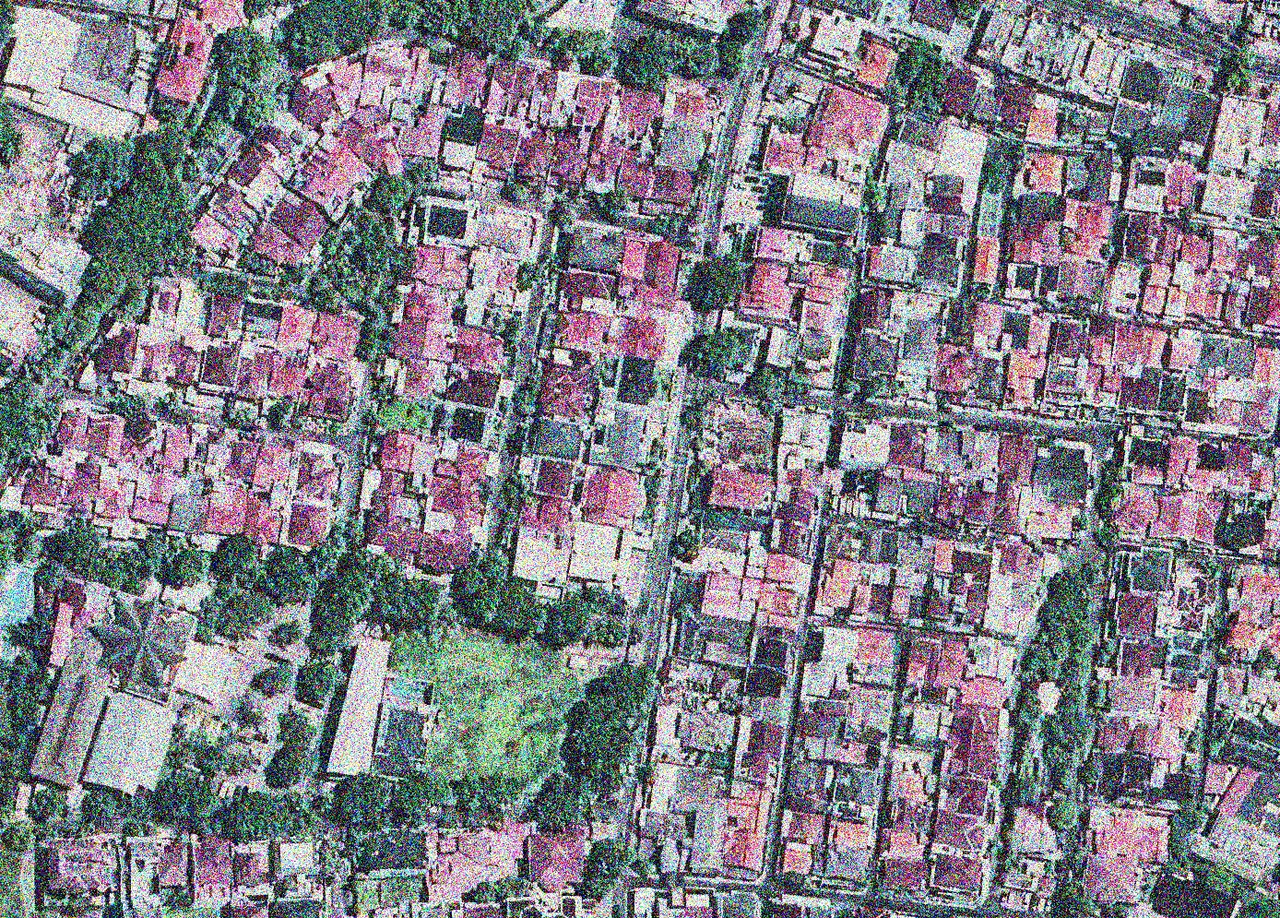building: (541, 225, 699, 371), (966, 0, 1137, 112), (339, 465, 476, 601), (73, 578, 202, 707), (26, 628, 123, 791), (198, 119, 314, 245), (649, 641, 748, 769), (875, 110, 988, 221), (0, 191, 101, 308), (80, 688, 179, 803), (412, 443, 493, 580), (325, 634, 392, 781), (244, 185, 340, 282), (793, 682, 893, 769), (367, 673, 443, 784), (16, 77, 140, 145), (60, 10, 146, 108), (802, 80, 893, 169), (1187, 804, 1280, 890), (0, 3, 82, 100), (288, 131, 374, 221), (423, 825, 523, 901), (507, 487, 581, 589), (801, 625, 896, 703), (869, 0, 981, 65), (793, 258, 853, 374), (151, 13, 221, 109), (923, 121, 994, 215), (44, 575, 111, 674), (646, 760, 731, 838), (778, 168, 867, 242), (792, 0, 876, 75), (332, 100, 408, 178), (764, 464, 825, 560), (201, 481, 287, 549), (689, 507, 766, 582), (1150, 80, 1223, 157), (671, 606, 756, 672), (981, 546, 1041, 638), (703, 399, 776, 472), (1213, 753, 1280, 832), (534, 343, 598, 423), (460, 255, 523, 335), (1206, 92, 1269, 172), (139, 272, 207, 345), (0, 270, 50, 369), (1088, 808, 1173, 866), (719, 783, 772, 875), (822, 516, 915, 567), (566, 520, 635, 588), (1031, 440, 1093, 513), (170, 638, 236, 706), (1210, 661, 1280, 725), (553, 217, 626, 278), (946, 702, 1002, 781), (1193, 164, 1261, 229), (524, 827, 590, 893), (579, 464, 646, 529), (1147, 871, 1239, 918), (358, 42, 416, 112), (1148, 488, 1220, 544), (730, 716, 787, 786), (630, 0, 732, 39), (509, 526, 574, 587), (737, 257, 799, 320), (775, 405, 832, 473), (742, 633, 798, 702), (435, 101, 487, 175), (406, 196, 479, 248), (617, 236, 682, 294), (354, 829, 429, 879), (394, 98, 449, 166), (705, 464, 774, 518), (203, 181, 266, 240), (905, 638, 966, 698), (1216, 714, 1280, 771), (1122, 148, 1175, 216), (1115, 54, 1176, 111), (608, 308, 671, 363), (697, 569, 761, 623), (655, 111, 709, 175), (687, 796, 730, 876), (912, 232, 967, 294), (484, 57, 538, 120), (597, 407, 649, 472), (1087, 751, 1152, 802), (47, 840, 107, 895), (812, 554, 862, 620), (470, 119, 523, 181), (507, 125, 558, 189), (579, 128, 627, 196), (407, 241, 472, 291), (1065, 199, 1115, 264), (307, 309, 361, 369), (841, 685, 896, 743), (185, 210, 243, 265), (439, 51, 491, 112), (555, 267, 619, 316), (1007, 806, 1064, 861), (280, 79, 338, 133), (546, 127, 594, 192), (998, 349, 1047, 412), (1052, 254, 1108, 309), (1171, 570, 1219, 634), (639, 810, 690, 870), (751, 577, 806, 632), (1112, 546, 1175, 594), (896, 314, 941, 381), (304, 364, 355, 423), (997, 858, 1054, 910), (451, 323, 508, 374), (192, 834, 232, 906), (852, 33, 900, 93), (674, 707, 735, 754), (1247, 241, 1279, 330), (931, 809, 989, 858), (0, 274, 41, 343), (850, 330, 900, 385), (189, 425, 237, 482), (568, 75, 616, 132), (59, 460, 106, 518), (282, 499, 332, 553), (929, 341, 974, 401), (523, 65, 567, 126), (760, 127, 811, 179), (445, 364, 501, 411), (698, 506, 769, 543), (929, 853, 986, 899), (321, 55, 365, 114), (995, 430, 1039, 488), (50, 405, 94, 463), (965, 634, 1018, 682), (1084, 855, 1137, 903), (862, 242, 917, 288), (993, 80, 1039, 135), (937, 65, 982, 121), (754, 225, 815, 266), (553, 308, 611, 351), (895, 470, 942, 523), (19, 463, 66, 516), (196, 340, 241, 395), (1111, 488, 1161, 537), (820, 844, 872, 891), (236, 296, 283, 348), (531, 417, 585, 462), (612, 148, 657, 202), (126, 837, 160, 908), (394, 318, 450, 361), (647, 163, 695, 213), (1107, 97, 1157, 145), (833, 764, 879, 816), (939, 773, 991, 819), (783, 794, 828, 847), (231, 348, 273, 404), (925, 573, 969, 626), (1237, 385, 1279, 440), (1106, 674, 1162, 715), (417, 531, 470, 574), (295, 448, 338, 501), (698, 571, 745, 619), (839, 421, 890, 465), (1216, 509, 1267, 553), (618, 86, 662, 137), (251, 440, 294, 492), (274, 302, 316, 355), (641, 238, 682, 292), (472, 216, 526, 257), (1043, 353, 1089, 401), (1024, 500, 1075, 543), (958, 428, 1001, 479), (1165, 633, 1204, 689), (786, 757, 835, 801), (615, 355, 657, 406), (467, 253, 518, 295), (153, 423, 195, 474), (85, 412, 126, 464), (95, 327, 136, 379), (967, 349, 1007, 402), (166, 490, 210, 538), (794, 326, 838, 374), (203, 291, 244, 342), (1194, 755, 1238, 802), (803, 262, 850, 306), (421, 201, 470, 243), (1092, 711, 1136, 757), (993, 541, 1042, 582), (232, 842, 269, 896), (1162, 158, 1197, 215), (265, 355, 308, 401), (922, 427, 964, 474), (221, 436, 262, 484), (886, 795, 934, 835), (402, 284, 451, 323), (959, 672, 1009, 710), (1132, 122, 1183, 159), (878, 856, 928, 893), (532, 456, 575, 499), (1158, 686, 1200, 730), (1009, 221, 1053, 263), (1235, 569, 1280, 610), (375, 429, 416, 474), (1012, 188, 1063, 224), (1122, 212, 1158, 263), (908, 0, 960, 35), (1161, 647, 1204, 689), (1023, 152, 1066, 194), (1118, 640, 1166, 677), (395, 359, 437, 401), (560, 215, 600, 259), (745, 718, 786, 760), (1117, 593, 1156, 637), (968, 235, 1001, 287), (1233, 236, 1272, 280), (966, 83, 1005, 127), (871, 469, 905, 519), (1164, 436, 1198, 486), (1110, 321, 1146, 368), (1195, 333, 1231, 380), (451, 443, 492, 484), (166, 343, 202, 389), (888, 423, 923, 470), (780, 556, 820, 597), (1186, 272, 1222, 317), (990, 483, 1021, 535), (818, 625, 858, 665), (855, 626, 895, 666), (1117, 375, 1160, 412), (774, 893, 837, 918), (1086, 150, 1115, 204), (1150, 221, 1184, 267), (661, 309, 687, 369), (857, 287, 891, 332), (1220, 278, 1251, 327), (950, 546, 992, 582), (1224, 619, 1266, 655), (1052, 318, 1088, 360), (158, 840, 188, 890), (197, 0, 247, 30), (962, 485, 996, 529), (1155, 372, 1188, 417), (896, 535, 934, 574), (1176, 231, 1213, 271), (908, 703, 943, 745), (129, 494, 171, 529), (449, 406, 487, 444), (1158, 768, 1197, 805), (1025, 104, 1062, 143), (1150, 716, 1181, 762), (800, 710, 844, 742), (273, 840, 314, 874), (1166, 335, 1202, 373), (890, 561, 929, 596), (1208, 229, 1239, 273), (971, 300, 1005, 340), (1224, 338, 1256, 380), (763, 550, 801, 585), (1127, 435, 1166, 469), (1182, 387, 1216, 426), (893, 761, 926, 801), (669, 89, 709, 122), (1251, 345, 1280, 390), (138, 340, 169, 382), (367, 513, 398, 554), (962, 578, 988, 626), (831, 819, 871, 850), (780, 841, 815, 876), (1000, 310, 1030, 350), (1249, 184, 1280, 222), (885, 829, 924, 859), (717, 891, 762, 917), (758, 325, 786, 366), (97, 480, 125, 519), (269, 896, 321, 917), (1138, 282, 1168, 318), (408, 46, 428, 99), (1141, 327, 1167, 367), (1063, 157, 1090, 195), (600, 93, 625, 134), (887, 584, 912, 623), (879, 204, 905, 241), (124, 415, 154, 447), (1223, 443, 1252, 476), (147, 470, 176, 503), (1129, 720, 1157, 754), (516, 898, 565, 917), (709, 668, 740, 698), (1007, 263, 1036, 295), (867, 584, 891, 621), (1036, 262, 1060, 299), (221, 900, 268, 917), (629, 887, 655, 917), (1098, 366, 1123, 396), (1011, 240, 1042, 264), (814, 696, 849, 717), (1262, 101, 1279, 144), (0, 482, 24, 512), (1247, 467, 1274, 492), (1194, 468, 1222, 492), (1146, 263, 1171, 288), (1266, 615, 1279, 659), (803, 736, 825, 759), (771, 902, 802, 917), (856, 906, 891, 917), (2, 268, 24, 283), (695, 846, 709, 869), (831, 907, 858, 917)
tree: (92, 160, 215, 284), (40, 241, 143, 354), (182, 566, 278, 663), (559, 690, 643, 800), (271, 0, 382, 71), (58, 125, 143, 216), (418, 0, 545, 58), (208, 18, 290, 96), (148, 768, 236, 840), (680, 242, 755, 324), (1032, 687, 1106, 763), (530, 769, 605, 842), (0, 377, 61, 466), (124, 120, 196, 191), (0, 654, 51, 752), (674, 324, 752, 387), (618, 25, 691, 92), (532, 587, 603, 655), (342, 208, 415, 272), (327, 767, 398, 832), (596, 654, 664, 721), (577, 834, 641, 905), (375, 571, 457, 626), (270, 709, 323, 792), (383, 766, 450, 831), (490, 580, 552, 646), (229, 793, 305, 844), (326, 562, 386, 622), (159, 539, 218, 596), (1046, 564, 1103, 622), (209, 531, 268, 587), (124, 529, 169, 598), (0, 512, 42, 585), (83, 538, 138, 593), (260, 547, 312, 605), (551, 27, 615, 73), (110, 270, 160, 328), (461, 871, 533, 911), (54, 518, 107, 572), (19, 335, 71, 390), (23, 777, 76, 829), (1018, 635, 1069, 689), (234, 83, 285, 137), (457, 772, 527, 811), (322, 253, 370, 309), (354, 310, 401, 365), (75, 784, 125, 835), (889, 35, 936, 89), (678, 37, 727, 87), (360, 274, 410, 322), (310, 601, 354, 655), (366, 171, 419, 215), (1054, 608, 1105, 653), (741, 362, 789, 409), (465, 579, 512, 627), (302, 658, 348, 707), (313, 518, 358, 568), (723, 3, 773, 47), (1053, 875, 1103, 918), (711, 32, 756, 79), (1168, 798, 1198, 868), (1054, 648, 1100, 693), (1192, 856, 1240, 899), (347, 548, 405, 583), (915, 48, 958, 95), (152, 98, 201, 139), (105, 388, 156, 426), (1042, 793, 1086, 837), (305, 271, 350, 314), (1015, 672, 1048, 730), (594, 181, 637, 225), (679, 392, 721, 437), (586, 618, 645, 650), (665, 524, 708, 567), (15, 612, 60, 653), (8, 530, 51, 571), (1043, 620, 1081, 664), (1005, 772, 1045, 813), (195, 110, 233, 153), (251, 663, 297, 698), (0, 749, 26, 808), (981, 152, 1015, 197), (1223, 49, 1258, 92), (906, 83, 947, 119), (311, 846, 346, 887), (375, 1, 421, 32), (583, 586, 631, 615), (2, 106, 26, 163), (770, 105, 810, 139), (198, 742, 235, 778), (199, 272, 254, 296), (1203, 708, 1234, 750), (501, 470, 537, 506), (457, 566, 493, 602), (1096, 479, 1129, 517), (269, 615, 308, 647), (514, 373, 543, 416), (276, 260, 316, 291), (477, 551, 513, 585), (513, 260, 549, 292), (0, 823, 37, 854), (1092, 520, 1125, 554), (262, 398, 295, 432), (858, 372, 893, 404), (549, 200, 582, 233), (315, 227, 348, 260), (125, 813, 158, 846), (860, 176, 887, 215), (239, 251, 277, 278), (341, 823, 368, 861), (641, 475, 663, 521), (643, 435, 670, 472), (1038, 595, 1070, 626), (219, 88, 249, 120), (511, 427, 540, 460), (500, 314, 527, 349), (646, 213, 683, 238), (1046, 746, 1081, 772), (1076, 558, 1106, 588), (1016, 728, 1041, 763), (705, 750, 735, 779), (1161, 856, 1192, 884), (1232, 12, 1261, 41), (341, 515, 369, 545), (1005, 141, 1031, 173), (254, 281, 287, 306), (1238, 897, 1279, 917), (1192, 553, 1222, 578), (1200, 613, 1224, 644), (1233, 883, 1261, 909), (1215, 642, 1242, 668), (502, 181, 532, 204), (778, 872, 812, 892), (717, 690, 744, 715), (757, 397, 782, 423), (156, 888, 190, 907), (306, 804, 325, 837), (196, 75, 215, 108), (160, 389, 185, 414), (1190, 807, 1214, 833), (246, 1, 275, 22), (1139, 872, 1159, 902), (410, 160, 439, 180), (949, 1, 983, 18), (1067, 852, 1091, 876), (687, 431, 712, 454), (688, 458, 715, 479), (374, 372, 394, 400), (1054, 770, 1076, 795), (1071, 508, 1093, 532), (599, 356, 619, 382), (1082, 760, 1104, 783), (984, 836, 1007, 858), (1003, 847, 1026, 868), (886, 381, 907, 404), (1100, 902, 1130, 918), (841, 377, 862, 396), (1185, 218, 1204, 238), (695, 157, 714, 176), (305, 575, 319, 600), (1104, 457, 1119, 480), (1179, 203, 1198, 221), (1260, 228, 1279, 246), (1112, 466, 1131, 484), (636, 861, 658, 876), (1226, 566, 1241, 586), (922, 618, 939, 635), (500, 397, 517, 414), (1058, 228, 1071, 250), (490, 814, 510, 828), (1100, 243, 1116, 260), (1043, 860, 1059, 877), (464, 817, 481, 830), (1074, 311, 1089, 325), (440, 818, 456, 830), (782, 20, 794, 35)
